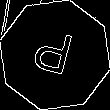P_S: (31, 26, 79, 84)
